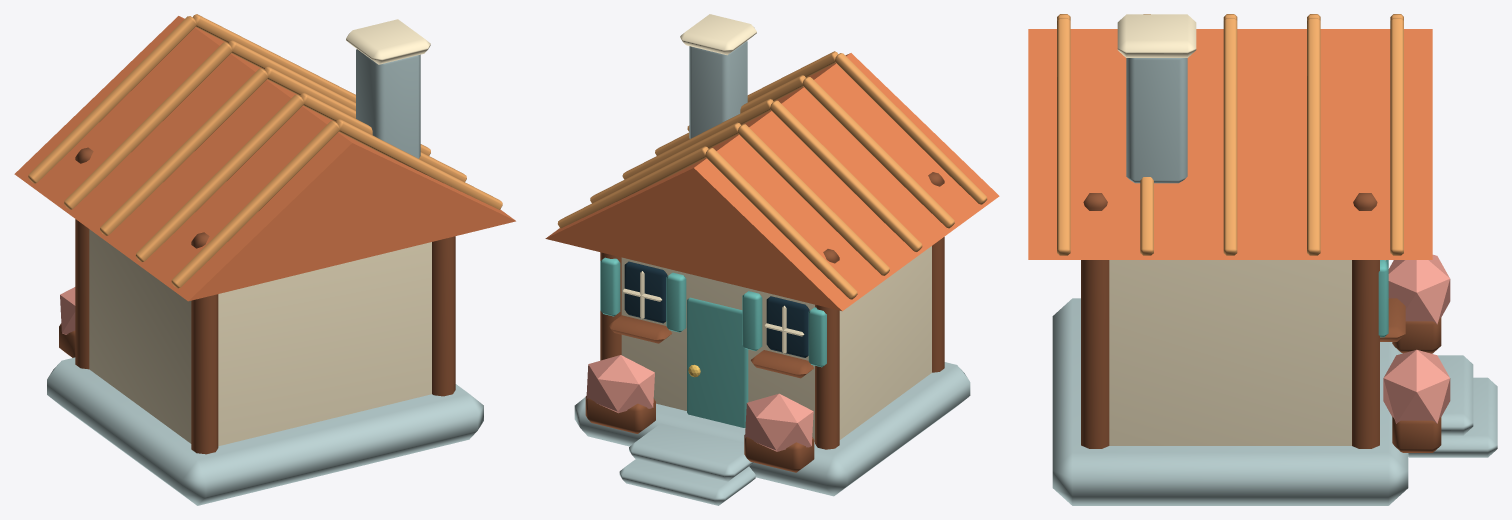
The model's file is cottage.glb.
3 views of the same model, side by side, from view 1: azimuth 30°, elevation 25°; view 2: azimuth 150°, elevation 25°; view 3: azimuth 270°, elevation 25° (orthographic). The views are drawn at different scales.
Visible parts, largest first — view 1: Roof, Walls, Stone footing, Chimney, Frame, Frame.002, Roof batten.008, Roof batten, Roof batten.002, Roof batten.006, Roof batten.004, Chimney cap (+7 smaller); view 2: Roof, Walls, Stone footing, Door, Chimney, Doorstep.001, Doorstep, Flowers.001, Flowers, Frame.001, Roof batten.002, Roof batten (+21 smaller); view 3: Roof, Walls, Stone footing, Chimney, Frame.002, Frame.003, Flowers.001, Roof batten.005, Chimney cap, Roof batten.007, Flowers, Roof batten.001 (+8 smaller).
Boxes of the visible parts, x1=… form: Roof: x1=14, y1=16, x2=515, y2=301; Walls: x1=89, y1=229, x2=431, y2=446; Stone footing: x1=47, y1=357, x2=483, y2=505; Chimney: x1=356, y1=49, x2=420, y2=158; Frame: x1=191, y1=232, x2=218, y2=454; Frame.002: x1=432, y1=236, x2=455, y2=396; Roof batten.008: x1=28, y1=16, x2=196, y2=183; Roof batten: x1=171, y1=121, x2=339, y2=288; Roof batten.002: x1=135, y1=94, x2=303, y2=262; Roof batten.006: x1=64, y1=42, x2=232, y2=209; Roof batten.004: x1=100, y1=68, x2=268, y2=235; Chimney cap: x1=346, y1=19, x2=430, y2=64; Roof: x1=545, y1=53, x2=999, y2=311; Walls: x1=621, y1=246, x2=931, y2=442; Stone footing: x1=574, y1=362, x2=970, y2=496; Door: x1=687, y1=297, x2=748, y2=427; Chimney: x1=689, y1=41, x2=747, y2=138; Doorstep.001: x1=629, y1=423, x2=753, y2=481; Doorstep: x1=619, y1=459, x2=755, y2=505; Flowers.001: x1=586, y1=355, x2=654, y2=413; Flowers: x1=745, y1=393, x2=813, y2=451; Frame.001: x1=815, y1=249, x2=839, y2=449; Roof batten.002: x1=802, y1=77, x2=954, y2=228; Roof batten: x1=835, y1=53, x2=987, y2=204; Roof: x1=1028, y1=29, x2=1432, y2=259; Walls: x1=1109, y1=260, x2=1351, y2=445; Stone footing: x1=1052, y1=298, x2=1408, y2=505; Chimney: x1=1126, y1=58, x2=1187, y2=183; Frame.002: x1=1081, y1=193, x2=1109, y2=448; Frame.003: x1=1352, y1=193, x2=1379, y2=448; Flowers.001: x1=1383, y1=349, x2=1450, y2=423; Roof batten.005: x1=1223, y1=18, x2=1237, y2=255; Chimney cap: x1=1117, y1=14, x2=1196, y2=57; Roof batten.007: x1=1307, y1=18, x2=1320, y2=255; Flowers: x1=1388, y1=254, x2=1450, y2=324; Roof batten.001: x1=1057, y1=18, x2=1070, y2=255.
Size of the model in its own units: 1.8 by 2.04 by 1.91.
